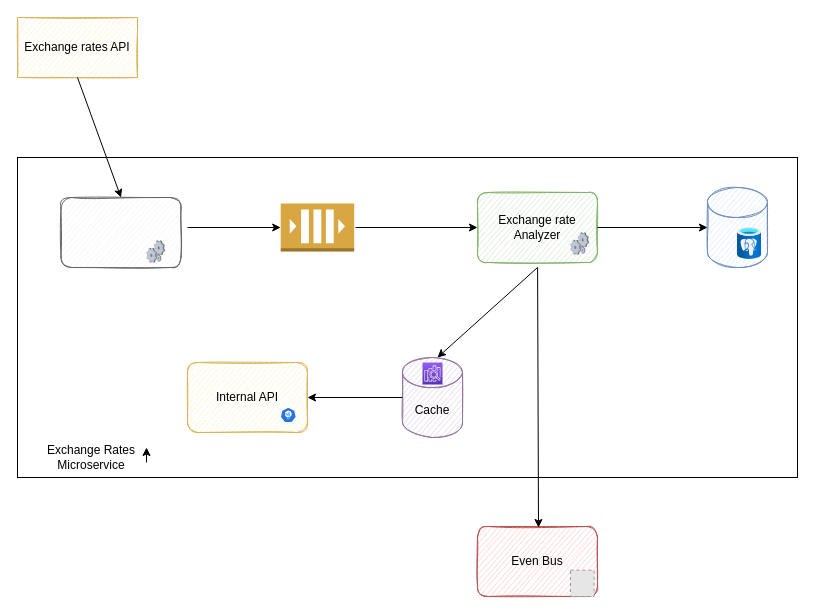
Image size: 815x614. Some labels were removed from this diagram. Grey dashed boxes stand in for pictures. Each missing label, with the box of its shape:
Exchange rate poller: (60, 196, 181, 268)
SQS: (280, 202, 354, 252)
